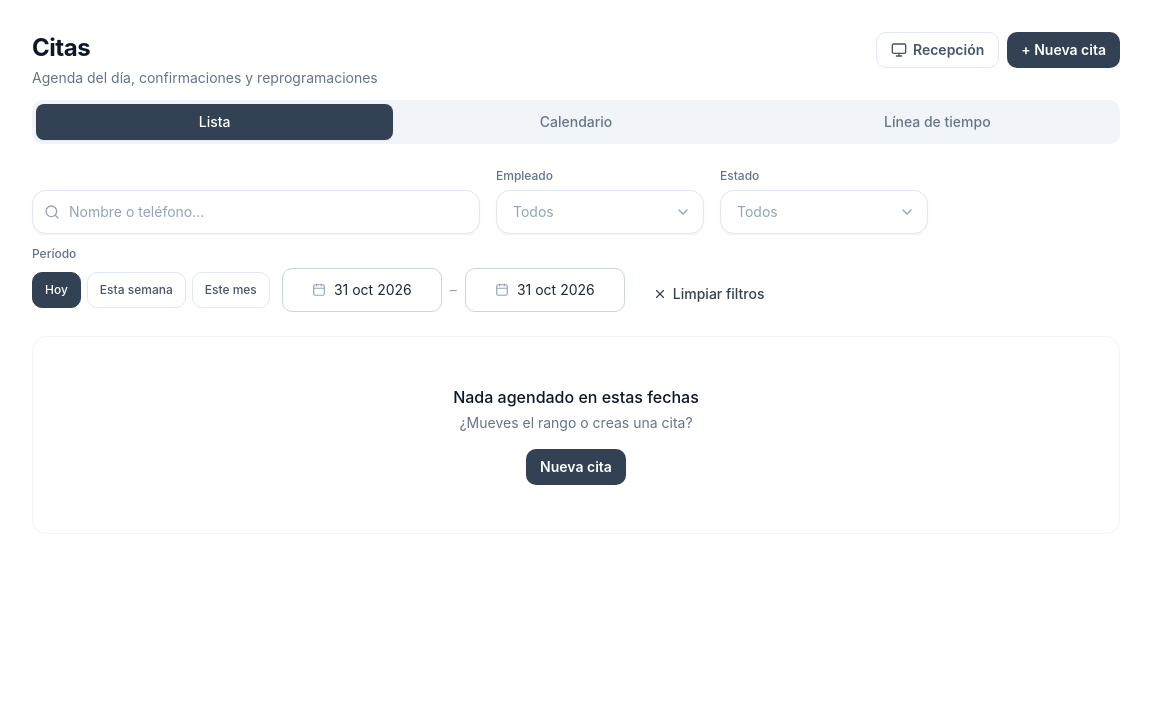
CitasPage — estado vacío › muestra el estado vacío cuando no hay citas en el rango
expect the text "Nada agendado en estas fechas" is shown: met, box [453,385,699,409]
Note: Una sola salida, con la voz del sector: crear la cita desde ahí mismo.
Click the button "Nueva cita". click: [576, 467]
box: [526,449,626,485]
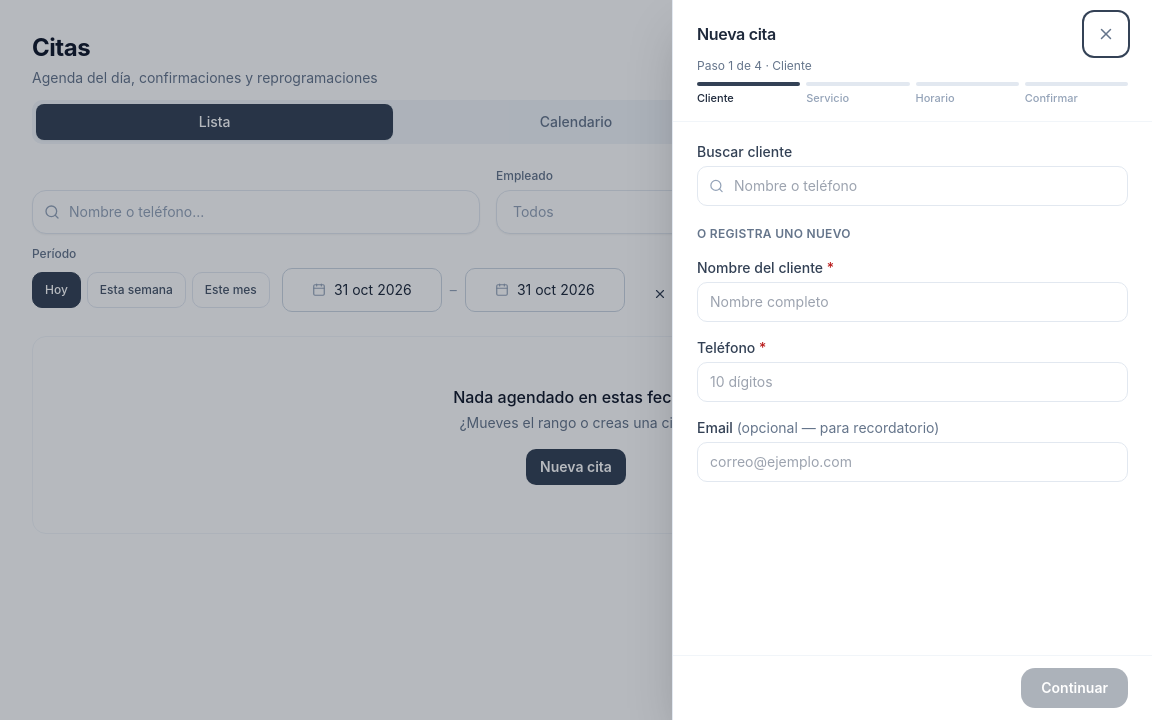
expect the dialog "Nueva cita" is shown: met, box [672,0,1151,719]
